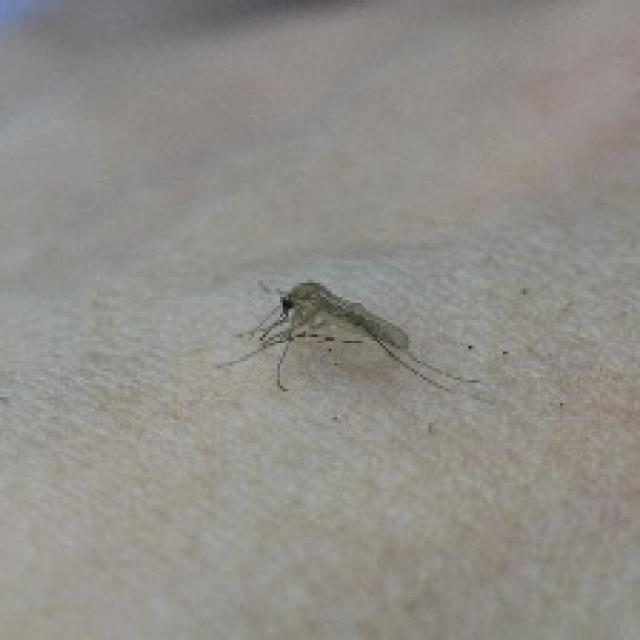culex: (214, 274, 497, 409)
